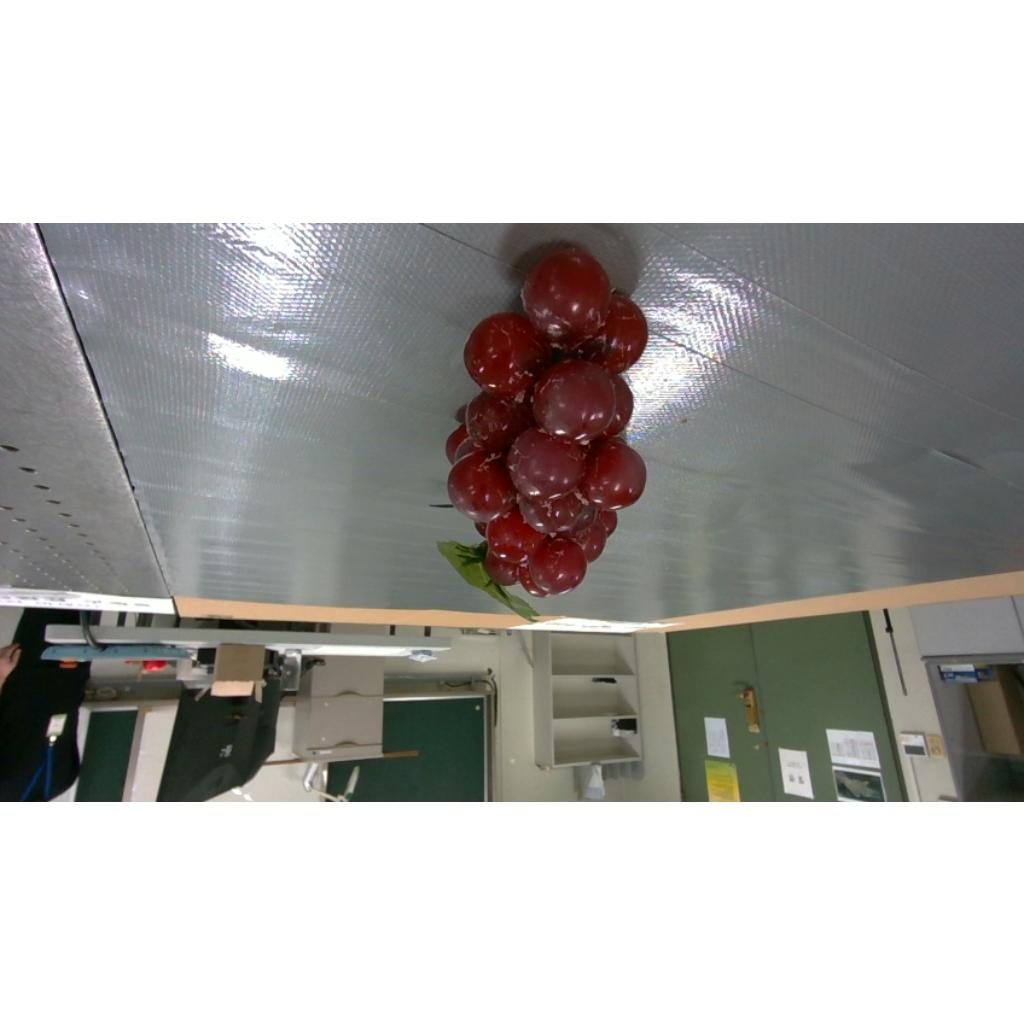grape: (440, 248, 648, 615)
